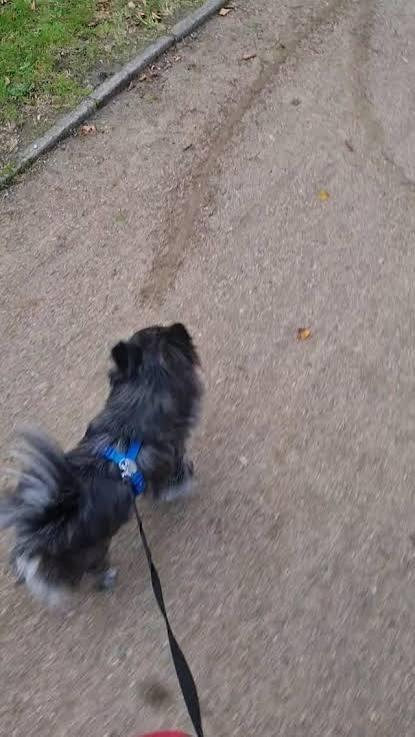adult_dog: (3, 322, 202, 609)
